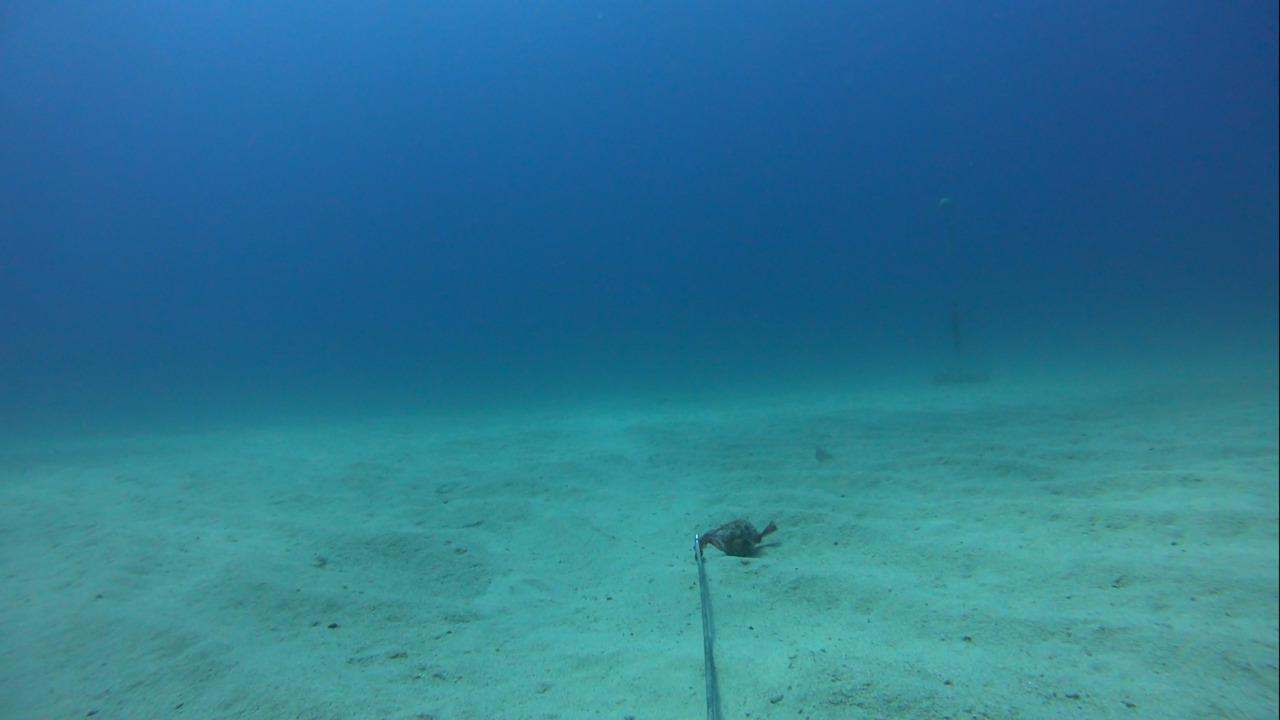raor: (802, 442, 838, 462)
